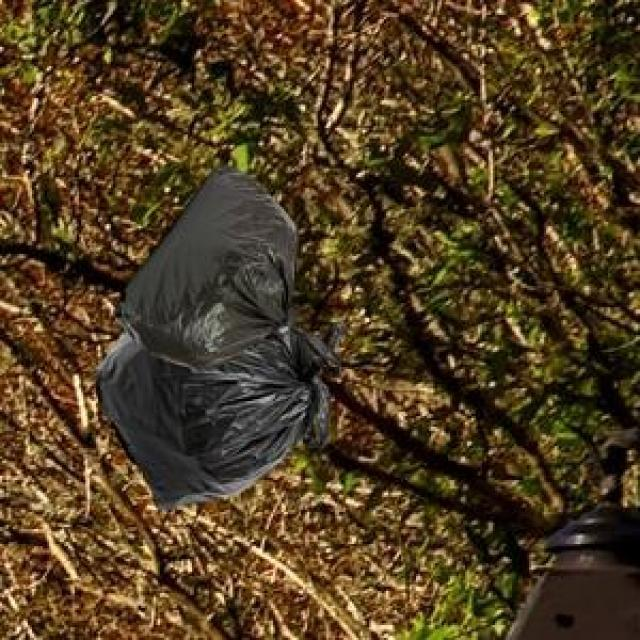waste: (98, 168, 332, 507)
